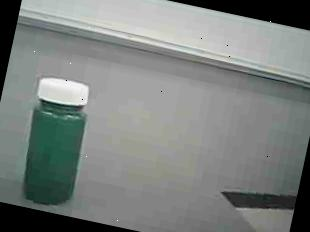Bottle C: (0, 60, 108, 218)
